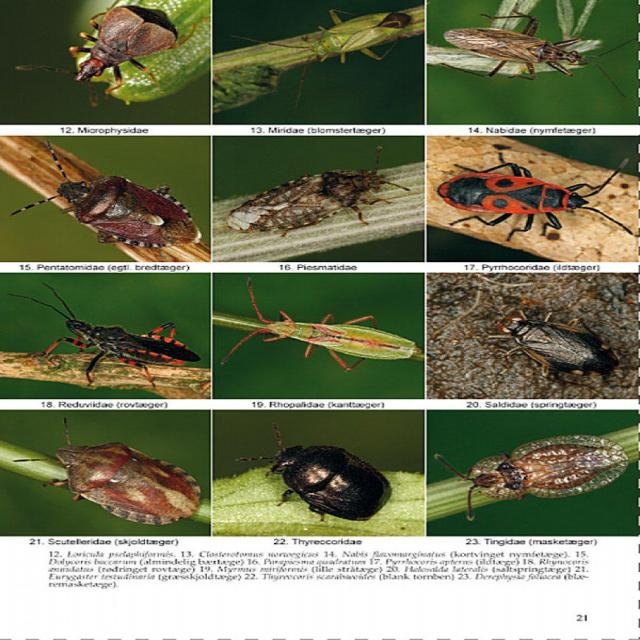Miridae-Adult-: (226, 4, 414, 115)
